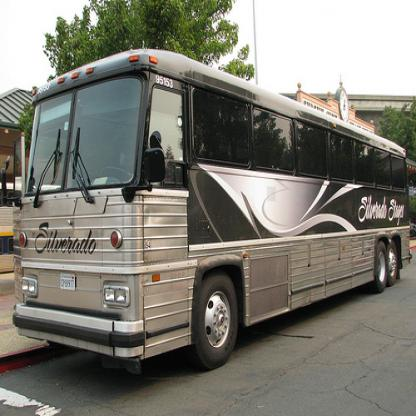bus: (11, 48, 412, 370)
